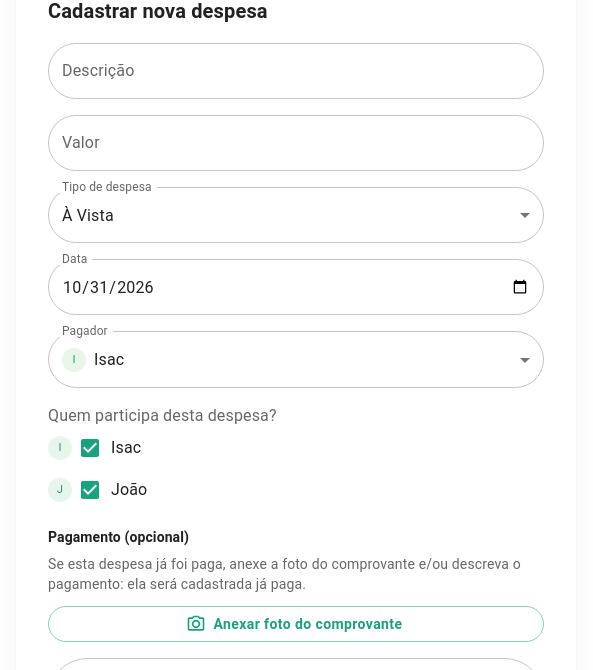
Scenario: ExpenseForm › blocks saving with an in-app alert (never window.alert) when no participant is selected
Check: the checkbox labelled "João" is shown, box 78,478 -> 147,502
Type "Cinema" into the field labelled "Descrição" at (296, 71), box 48,43 -> 544,99
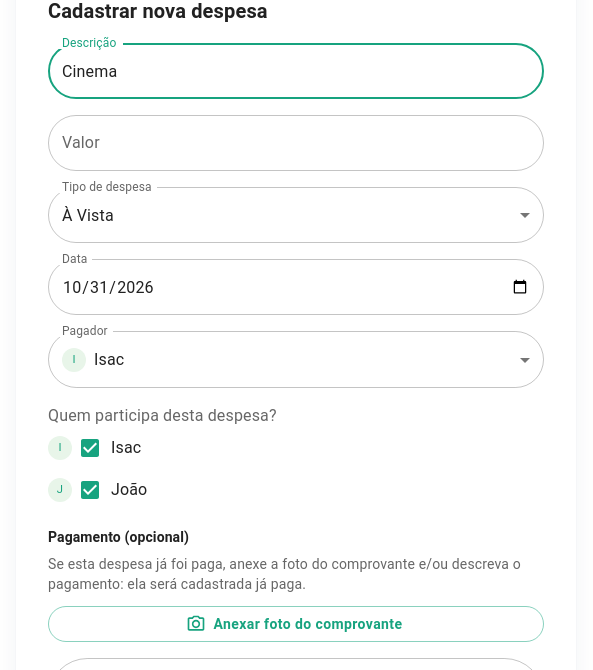
Type "50,00" into the field labelled "Valor" at (296, 143), box 48,115 -> 544,171
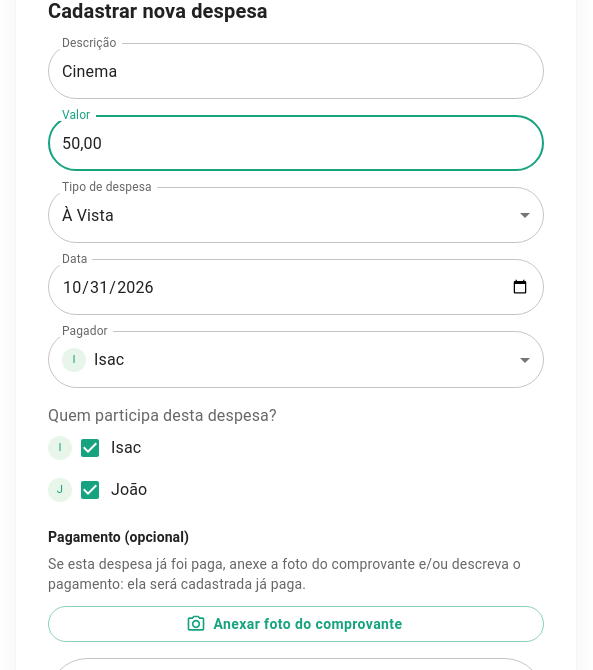
Click the checkbox labelled "Isac" at (110, 448), box 78,436 -> 141,460
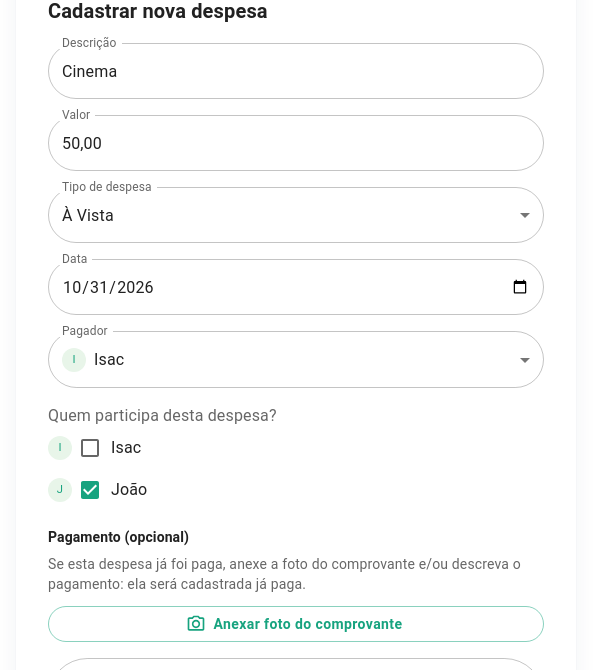
Click the checkbox labelled "João" at (113, 490), box 78,478 -> 147,502
(page scrolled)
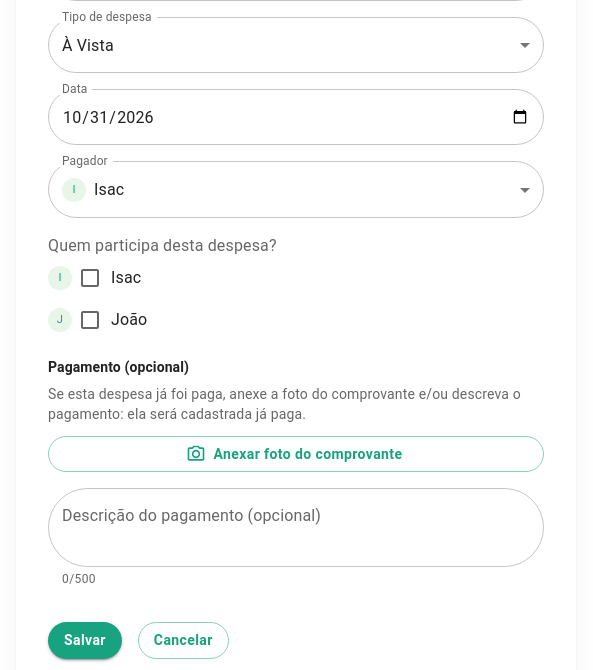
Click the button "Salvar" at (85, 641), box 48,622 -> 122,659
(page scrolled)
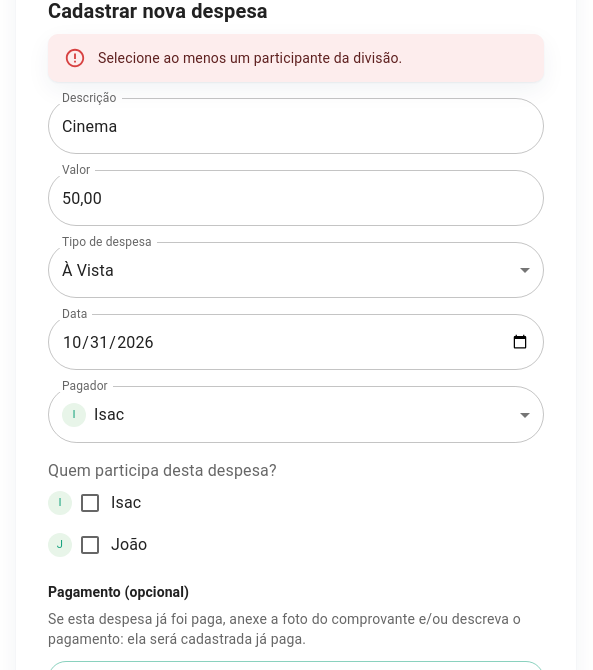
Check: the message reads "Selecione ao menos um participante da divisão.", box 98,50 -> 402,66
